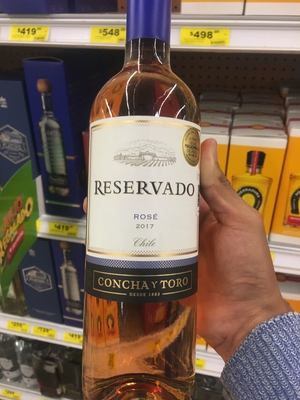reservado rose: (82, 5, 202, 400)
